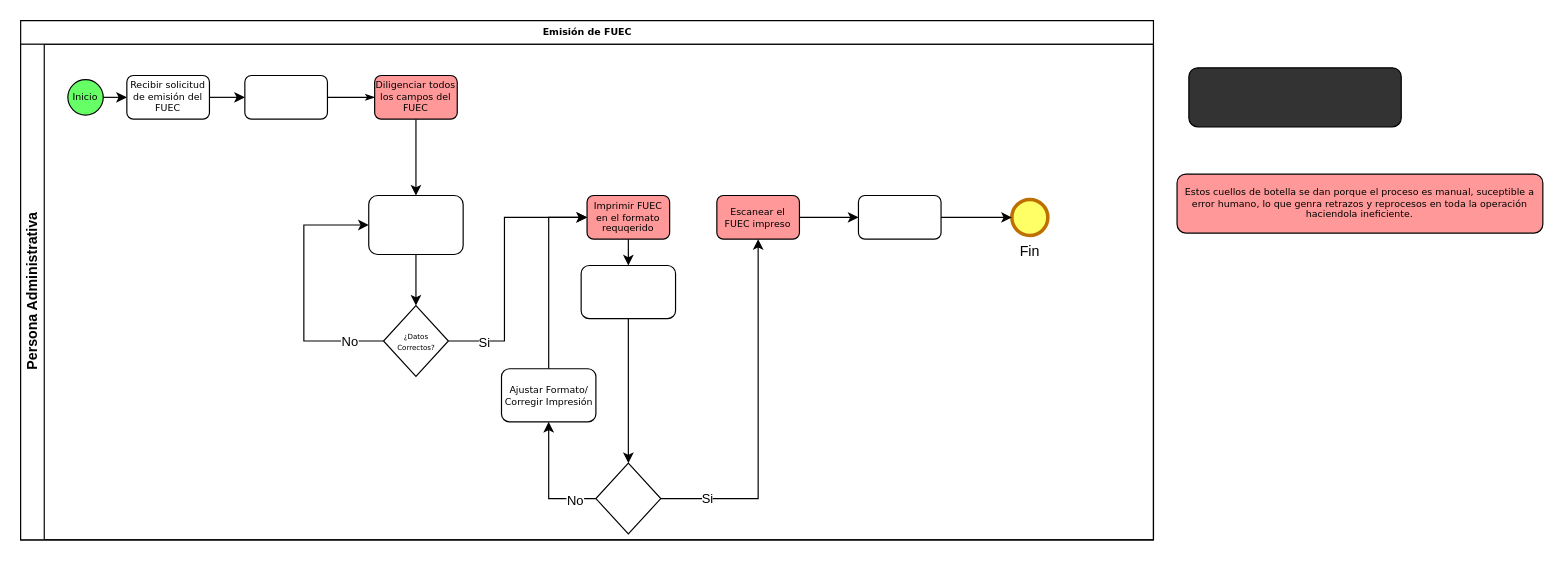
This 1563x561 diagram has some shape labels left out. Each missing label, with the centre of its shape:
Aceder al Sistema (Excel): (x=285, y=96)
Enviar al conductor: (x=899, y=216)
Nota: Los rectangulos que están en rojo representan un cuello de botella: (x=1294, y=97)
Validar impresion del formato requerido: (x=628, y=291)
Validar los datos del FUEC: (x=415, y=224)
¿Impresión correcta?: (x=628, y=498)
